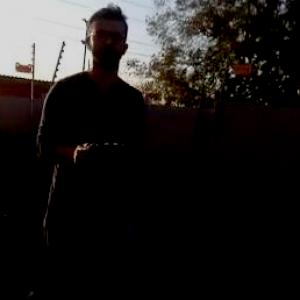follow: (29, 0, 155, 299)
